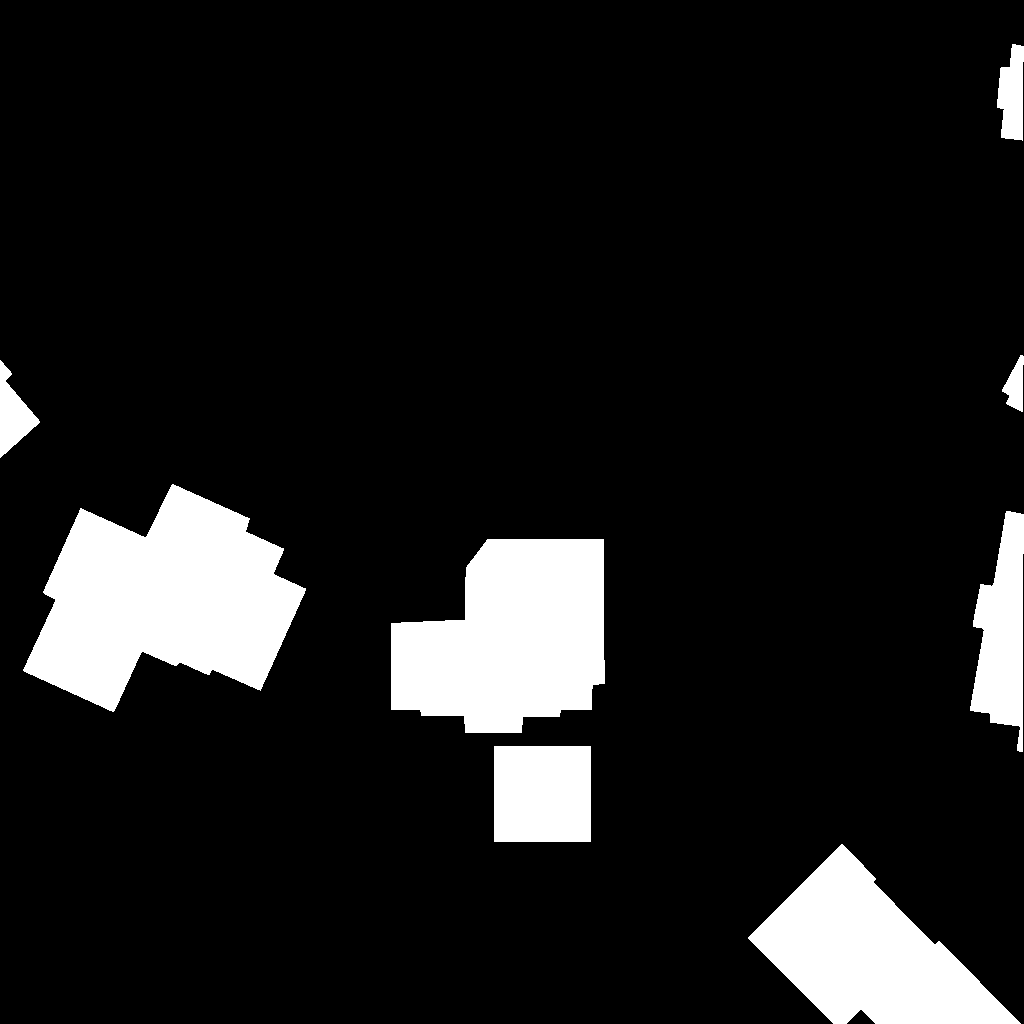building: (23, 484, 307, 713), (748, 844, 1022, 1024), (391, 539, 605, 733), (970, 511, 1024, 753), (494, 746, 592, 842), (0, 360, 41, 459), (997, 44, 1024, 141), (1002, 355, 1024, 413)
